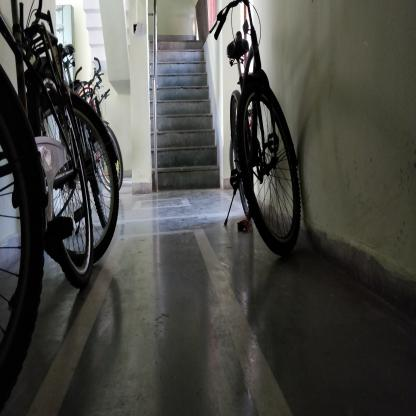stairs: (161, 40, 206, 196)
